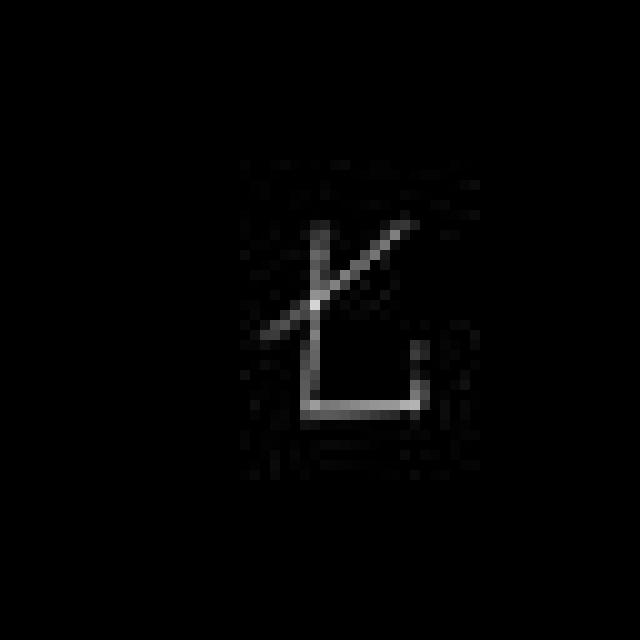7 -seven-: (251, 206, 435, 420)
